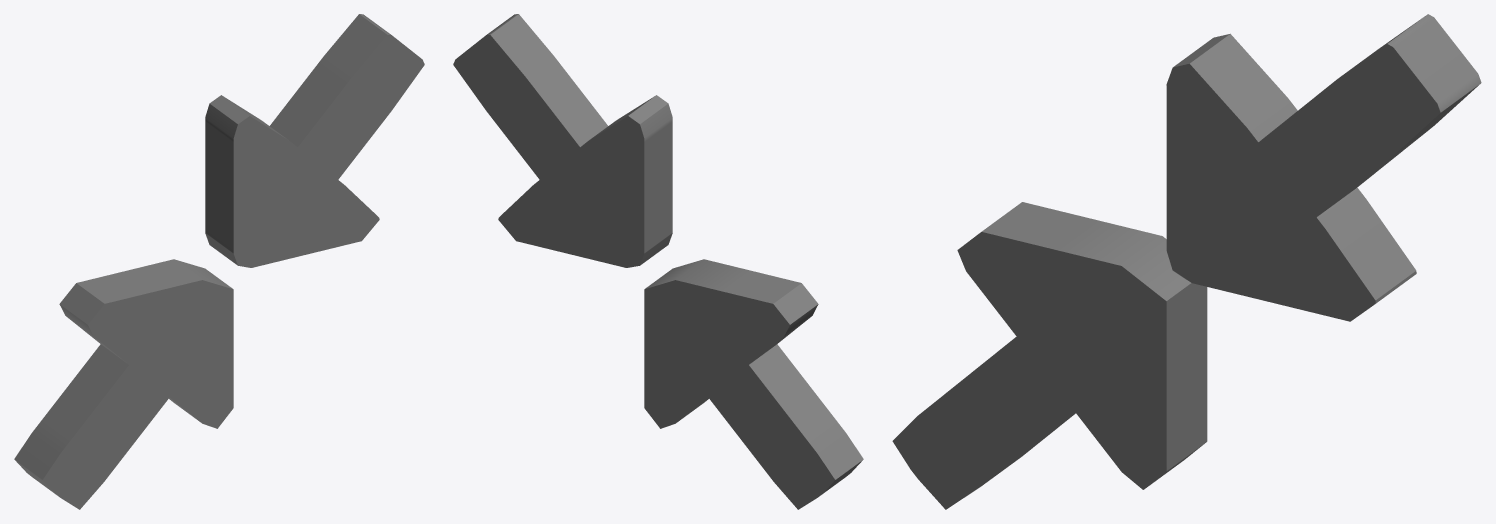
Rendered from fa-compress.obj.
3 renders of one model, left to right at view 1: azimuth 30°, elevation 25°; view 2: azimuth 150°, elevation 25°; view 3: azimuth 330°, elevation 25°, orthographic. The views are drawn at different scales.
Size of the model in its own units: 0.8917 by 0.8916 by 0.1152.
Materials: 1 (1 with a texture image).
